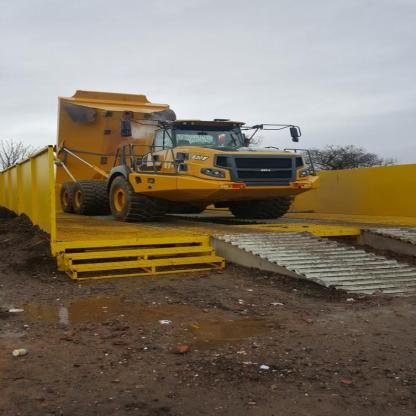dump_truck: (46, 85, 339, 232)
